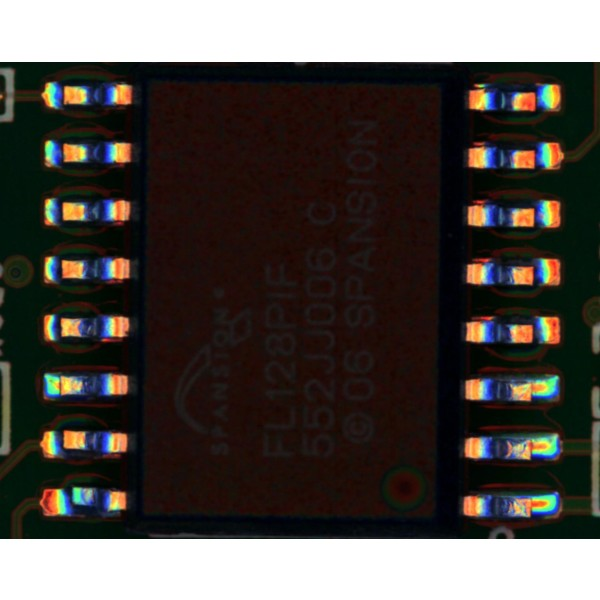Bad_podu: (519, 441, 547, 453), (525, 380, 546, 394), (523, 500, 547, 509), (54, 378, 65, 395)
